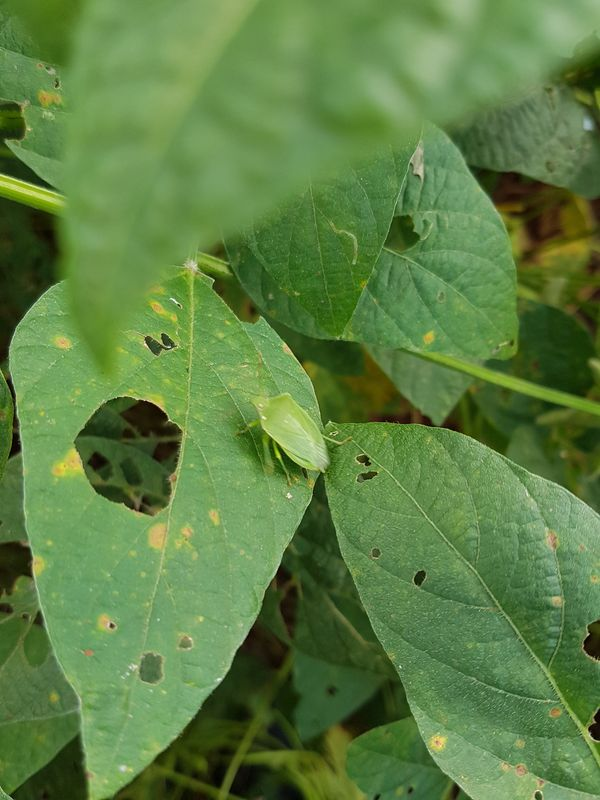Nezara_viridula_adulto: (224, 378, 357, 492)
